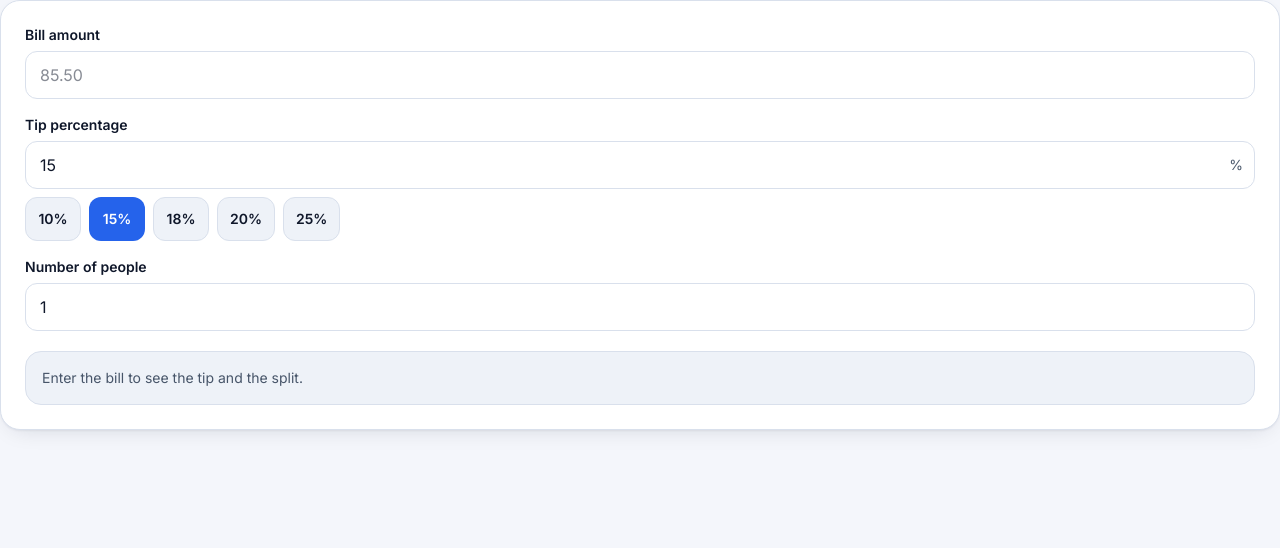
tools › tip tool: rejects zero people
Type "50" into the field labelled "Bill amount" at [640, 75], box top-left (25, 51), bottom-right (1255, 99)
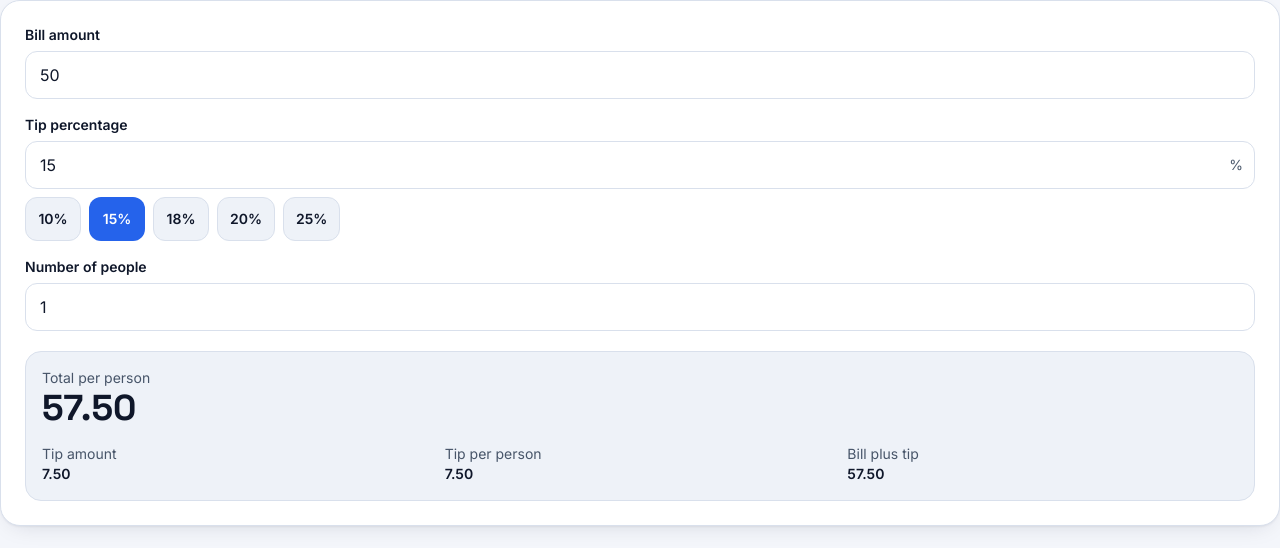
Type "0" into the field labelled "Number of people" at [640, 307], box top-left (25, 283), bottom-right (1255, 331)
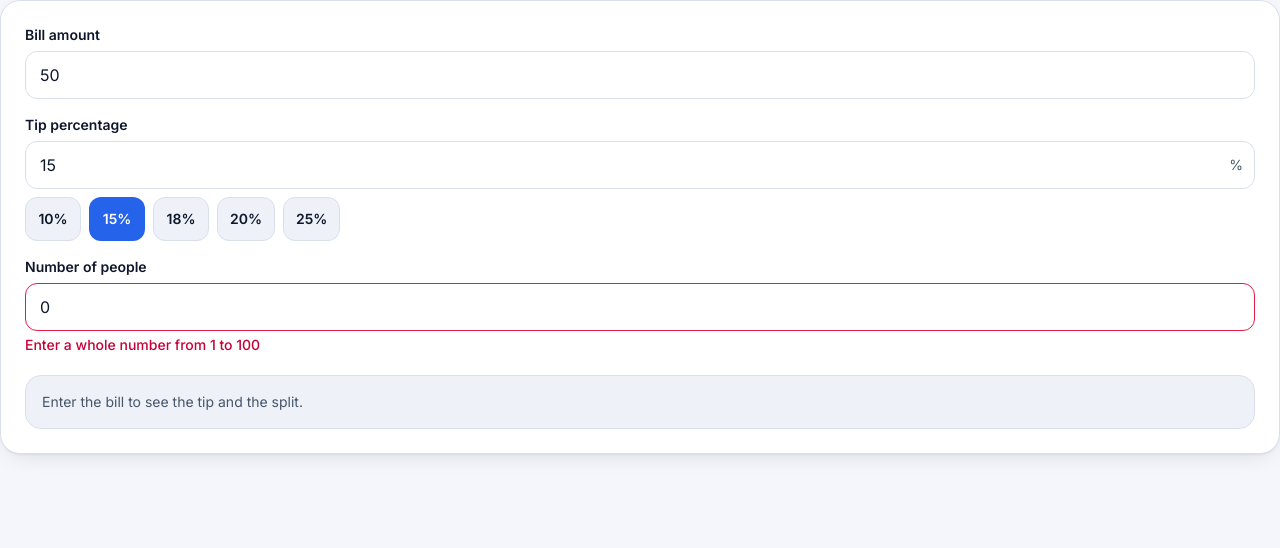
Expected: the message shows "1 to 100", top-left (25, 336), bottom-right (260, 353)
